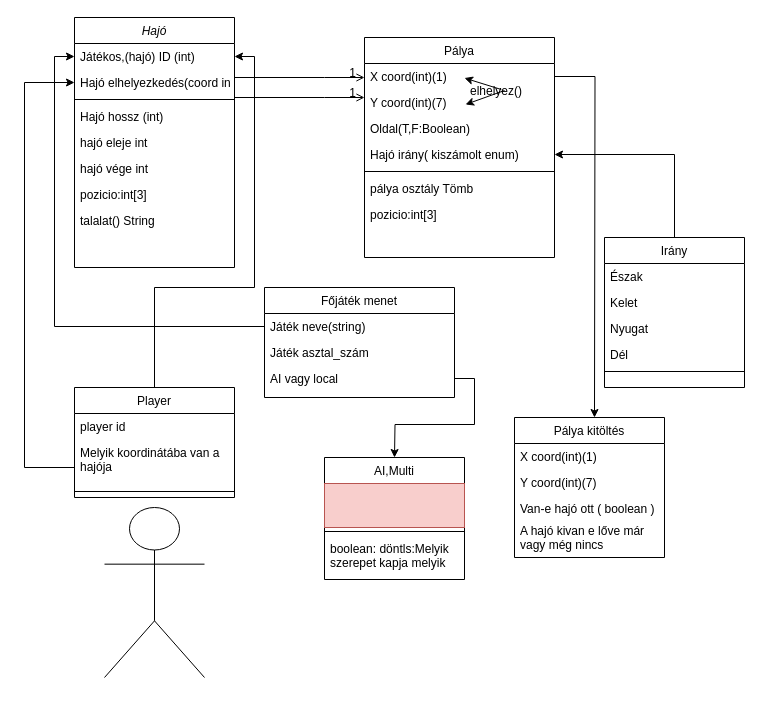
This 762x716 diagram has some shape labels left out. The shapes that lost their labels are listed below. From the top down, each one's centre as x and y in pixels, then its label:
At point 394,505: "boolean: döntls:ai ellen vagy player ellen".
At point 154,592: "Actor".
